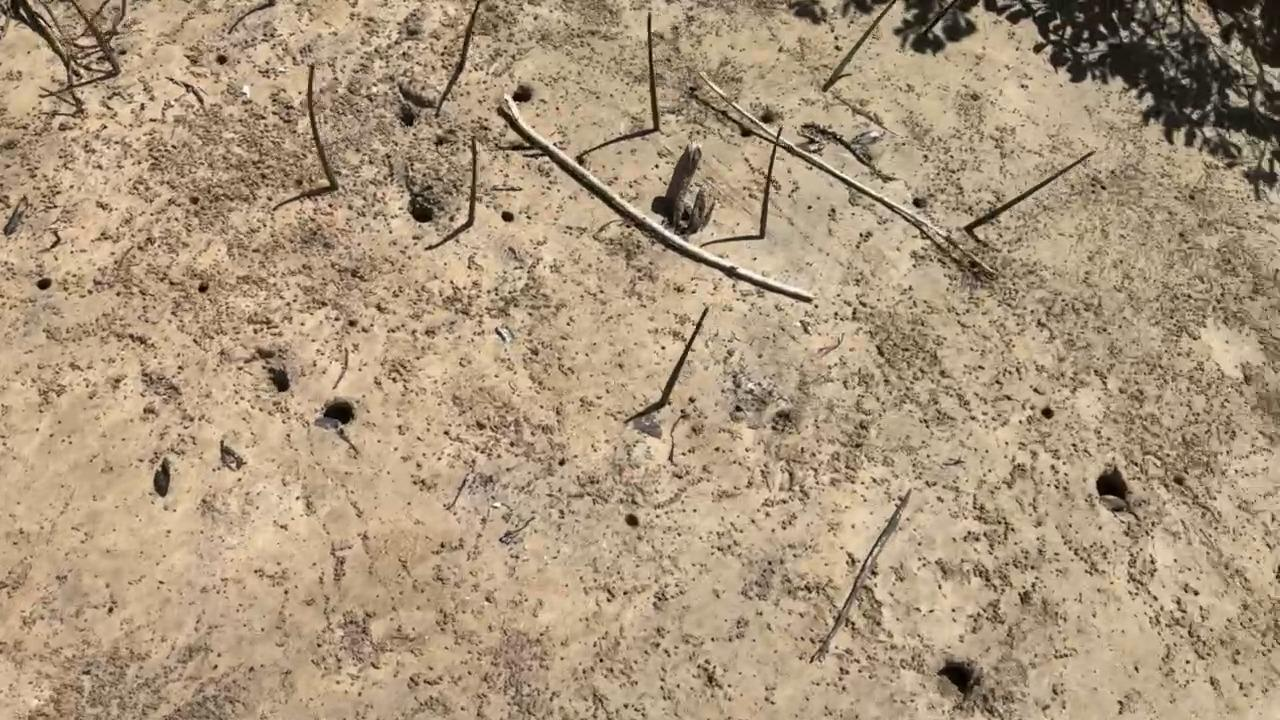Tree: (962, 150, 1096, 233), (822, 0, 894, 92), (659, 306, 709, 408), (306, 64, 339, 190), (67, 0, 121, 72), (759, 126, 783, 241), (646, 11, 661, 131), (459, 0, 482, 71), (467, 136, 479, 226), (264, 0, 275, 10)
